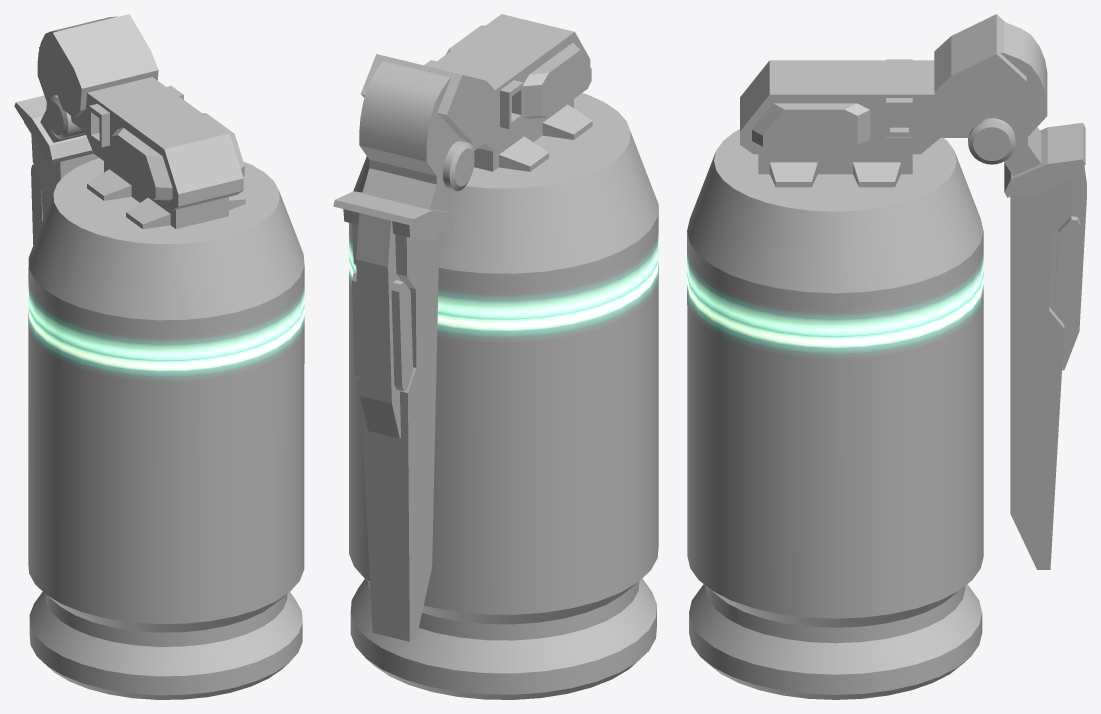
Rendered from ScifiPlasmaGrenade.fbx.
3 renders of one model, left to right at view 1: azimuth 30°, elevation 25°; view 2: azimuth 150°, elevation 25°; view 3: azimuth 270°, elevation 25°, orthographic. The views are drawn at different scales.
Visible parts, largest first — view 1: ScifiPlasmaGrenade; view 2: ScifiPlasmaGrenade; view 3: ScifiPlasmaGrenade.
Part boxes in pixels (x1=…): ScifiPlasmaGrenade: x1=14, y1=14, x2=304, y2=699; ScifiPlasmaGrenade: x1=333, y1=14, x2=658, y2=699; ScifiPlasmaGrenade: x1=687, y1=14, x2=1086, y2=699.
Bounding box in the file's own units: 4.38 × 10.15 × 5.9.
